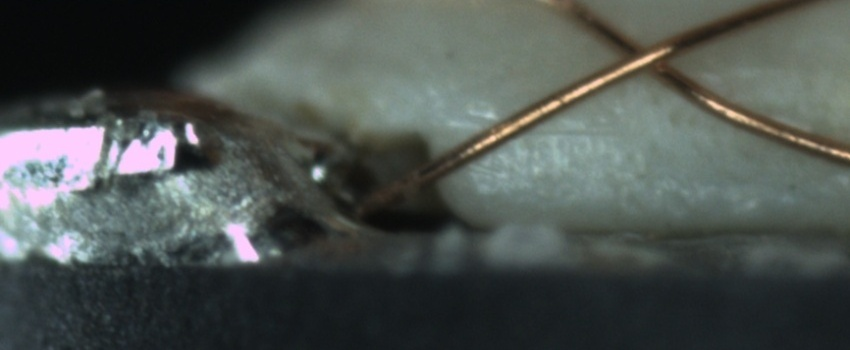CL: (594, 22, 696, 89)
DL: (500, 99, 638, 163)
